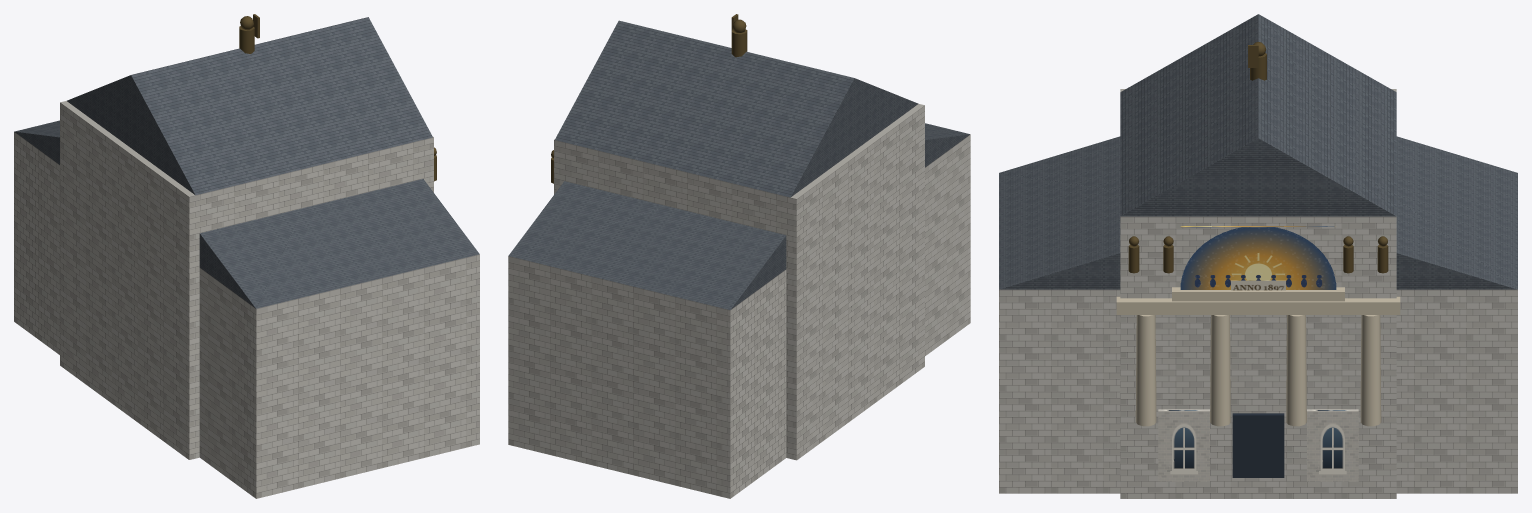
The model's file is ntgent.obj.
3 renders of one model, left to right at view 1: azimuth 30°, elevation 25°; view 2: azimuth 150°, elevation 25°; view 3: azimuth 270°, elevation 25°, orthographic. The views are drawn at different scales.
Visible parts, largest first — view 1: part1, part3, part4, part2; view 2: part1, part3, part4, part2; view 3: part1, part4, part3, part2, part13.nocast, part9, part10.nocast, part11.nocast, part12.nocast, part6, part7, part5 (+3 smaller).
Boxes of the visible parts, x1,y1,x2,y2 form: part1: (14, 132, 479, 498); part3: (60, 101, 433, 459); part4: (67, 17, 432, 195); part2: (14, 120, 479, 308); part1: (508, 134, 970, 498); part3: (554, 104, 924, 460); part4: (555, 20, 918, 197); part2: (508, 123, 969, 309); part1: (999, 289, 1517, 493); part4: (1120, 14, 1396, 216); part3: (1120, 89, 1396, 498); part2: (999, 136, 1517, 289); part13.nocast: (1180, 226, 1336, 289); part9: (1116, 296, 1400, 314); part10.nocast: (1307, 409, 1358, 481); part11.nocast: (1158, 409, 1209, 481); part12.nocast: (1232, 413, 1284, 477); part6: (1286, 315, 1306, 426); part7: (1210, 315, 1230, 426); part5: (1360, 315, 1381, 426).
Size of the model in its own units: 18.27 by 25.1 by 30.
8 materials, 5 textured.
